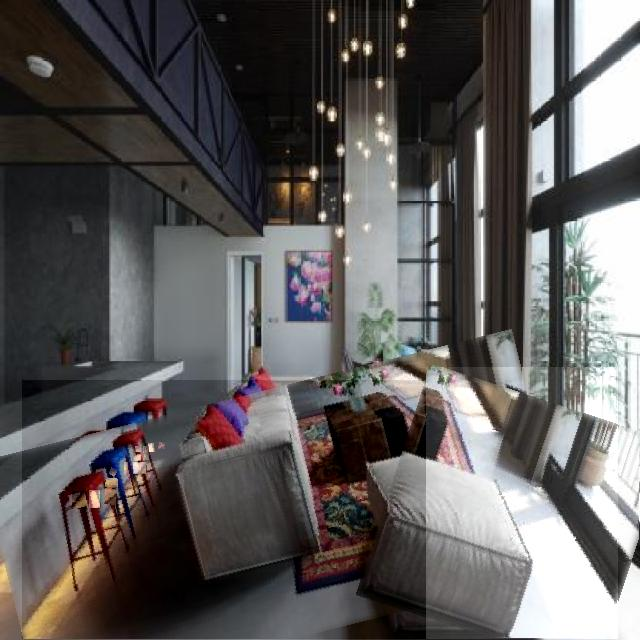floor: (22, 380, 569, 640), (426, 368, 618, 639), (73, 492, 87, 509), (89, 490, 100, 508), (104, 489, 117, 504), (134, 462, 146, 474), (105, 478, 118, 486), (144, 447, 149, 460), (158, 442, 165, 449), (149, 443, 154, 452), (108, 471, 117, 476), (134, 455, 141, 461), (124, 462, 127, 474), (136, 446, 141, 452)
